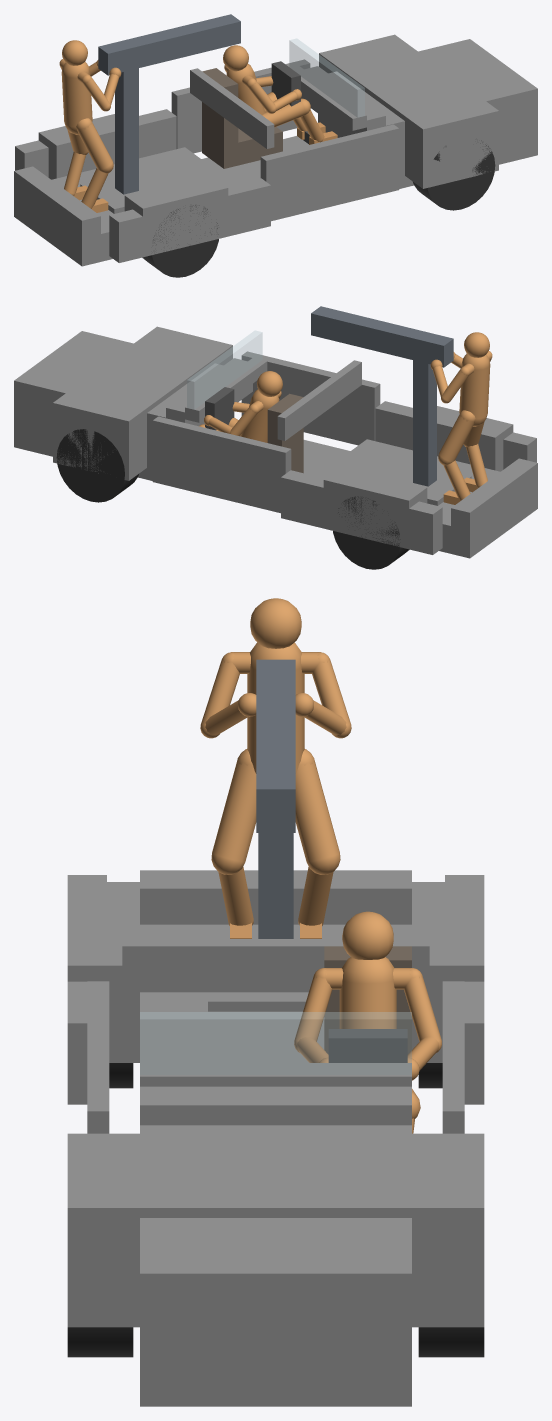
File: car_m_v2_dima.glb
The picture shows the model from 3 angles, top to bottom: view 1: azimuth 30°, elevation 25°; view 2: azimuth 150°, elevation 25°; view 3: azimuth 270°, elevation 25°; orthographic projection. The views are drawn at different scales.
Visible parts, largest first — view 1: parafanghi_anteriori, figura (×2), fiancata_destra, cofano, fiancate_pianale_destra, parafango_posteriore_destro, arma, sponda_posteriore, fondo, base_arma, pianale, parabrezza (+12 smaller); view 2: parafanghi_anteriori, fiancata_sinistra, figura (×2), cofano, parafango_posteriore_sinistro, fiancate_pianale, fiancata_destra, arma, sponda_posteriore, ruota_ant_L, fondo, base_arma (+11 smaller); view 3: parafanghi_anteriori, cofano, figura (×2), parabrezza, pianale, roll_bar, cruscotto_basso, sponda_posteriore, parafango_posteriore_destro, parafango_posteriore_sinistro, arma, fondo (+11 smaller).
Part boxes in pixels (x1,y1,x2,y2): parafanghi_anteriori: [319, 34, 498, 188]; figura (×2): [59, 40, 337, 212]; fiancata_destra: [260, 124, 399, 221]; cofano: [318, 39, 537, 176]; fiancate_pianale_destra: [109, 178, 270, 262]; parafango_posteriore_destro: [124, 174, 228, 257]; arma: [98, 14, 240, 75]; sponda_posteriore: [14, 166, 100, 254]; fondo: [14, 136, 537, 266]; base_arma: [115, 68, 138, 194]; pianale: [51, 147, 235, 249]; parabrezza: [289, 38, 364, 117]; parafanghi_anteriori: [53, 326, 232, 480]; fiancata_sinistra: [152, 416, 291, 513]; figura (×2): [199, 332, 492, 504]; cofano: [14, 331, 223, 468]; parafango_posteriore_sinistro: [323, 466, 427, 549]; fiancate_pianale: [281, 470, 442, 554]; fiancata_destra: [241, 351, 380, 445]; arma: [311, 306, 453, 367]; sponda_posteriore: [451, 458, 537, 546]; ruota_ant_L: [56, 429, 138, 502]; fondo: [14, 435, 537, 558]; base_arma: [413, 360, 436, 486]; parafanghi_anteriori: [67, 1133, 484, 1327]; cofano: [140, 1125, 411, 1382]; figura (×2): [200, 598, 441, 1133]; parabrezza: [140, 1012, 411, 1074]; pianale: [140, 924, 411, 1062]; roll_bar: [122, 939, 429, 992]; cruscotto_basso: [140, 1086, 411, 1125]; sponda_posteriore: [140, 870, 411, 924]; parafango_posteriore_destro: [67, 882, 139, 1062]; parafango_posteriore_sinistro: [412, 882, 484, 1062]; arma: [256, 659, 295, 832]; fondo: [140, 1383, 411, 1406].
Size of the model in its own units: 4.8 by 2.13 by 1.9.
